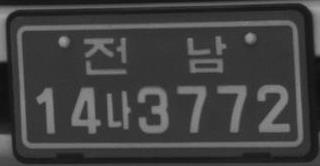1: (33, 86, 63, 134)
2: (256, 83, 291, 134)
3: (136, 85, 170, 136)
4: (69, 85, 102, 135)
7: (215, 83, 249, 134), (175, 83, 208, 134)
나: (105, 89, 132, 131)
전남_D: (83, 34, 227, 76)
